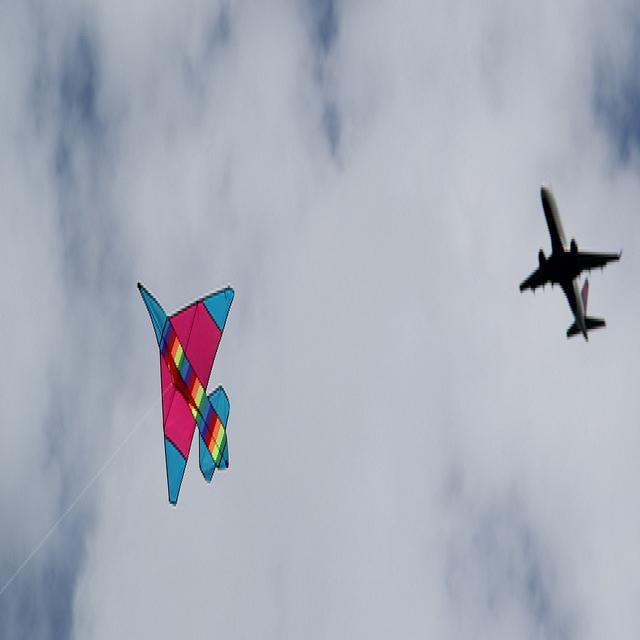airplane: (518, 180, 624, 345)
